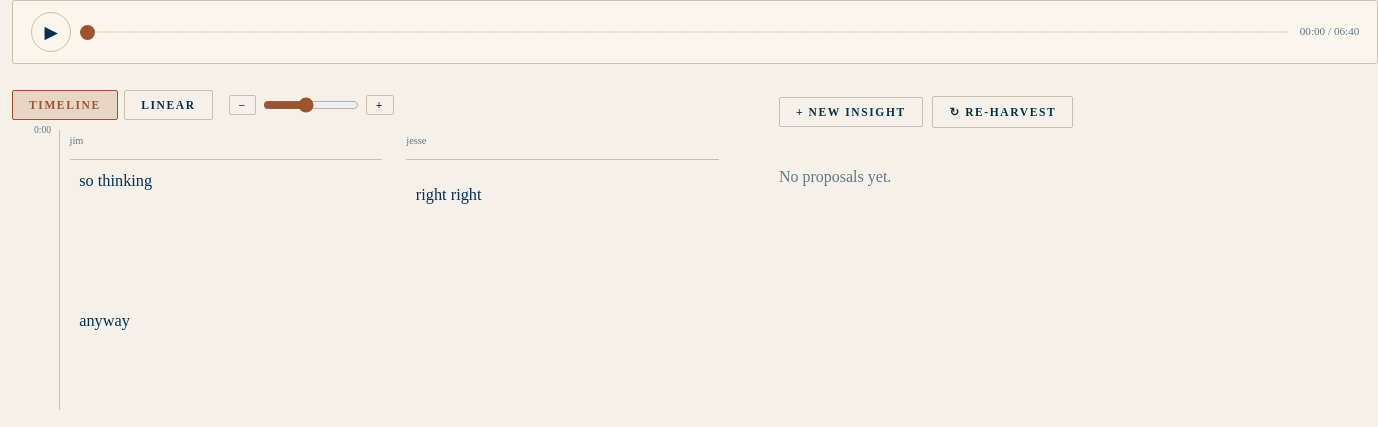
Test: ReviewView (render) › switches a two-speaker session to linear mode and renders Jim's original single-column layout
Check: the element with id "segment-1" is shown, box [70,165,382,199]
Click the button "linear".
click(168, 105)  # box [124,90,213,120]
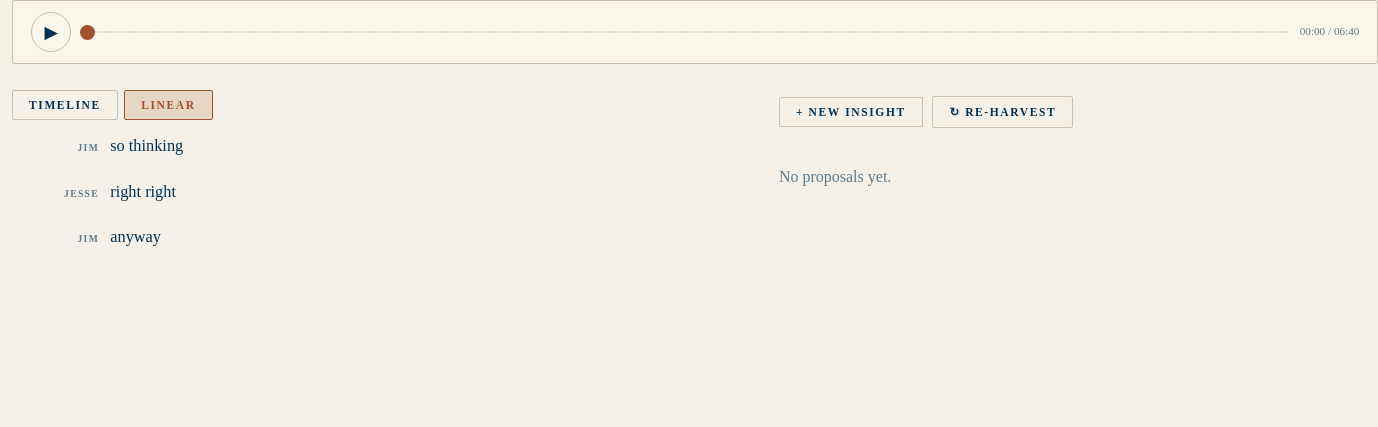
Check: the number of elements with class "speaker-tag" is 3, box [77,142,99,153]; [64,188,99,198]; [77,233,99,244]
Check: the text with class "timeline-header" is gone
Check: the text with class "speaker-tag" next to "so" reads "jim", box [77,142,99,153]
